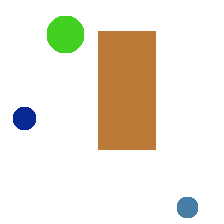circle: (47, 16, 83, 52), (13, 107, 35, 129), (177, 197, 197, 217)
rectangle: (98, 31, 155, 149)
